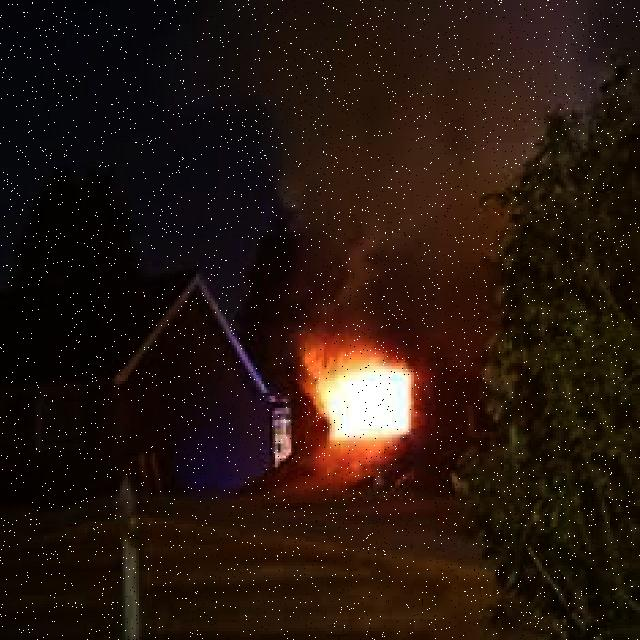fire: (305, 324, 425, 455)
smoke: (288, 21, 482, 272)
